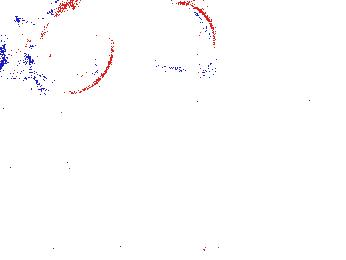moon jellyfish: (28, 1, 115, 94), (123, 4, 215, 71)
